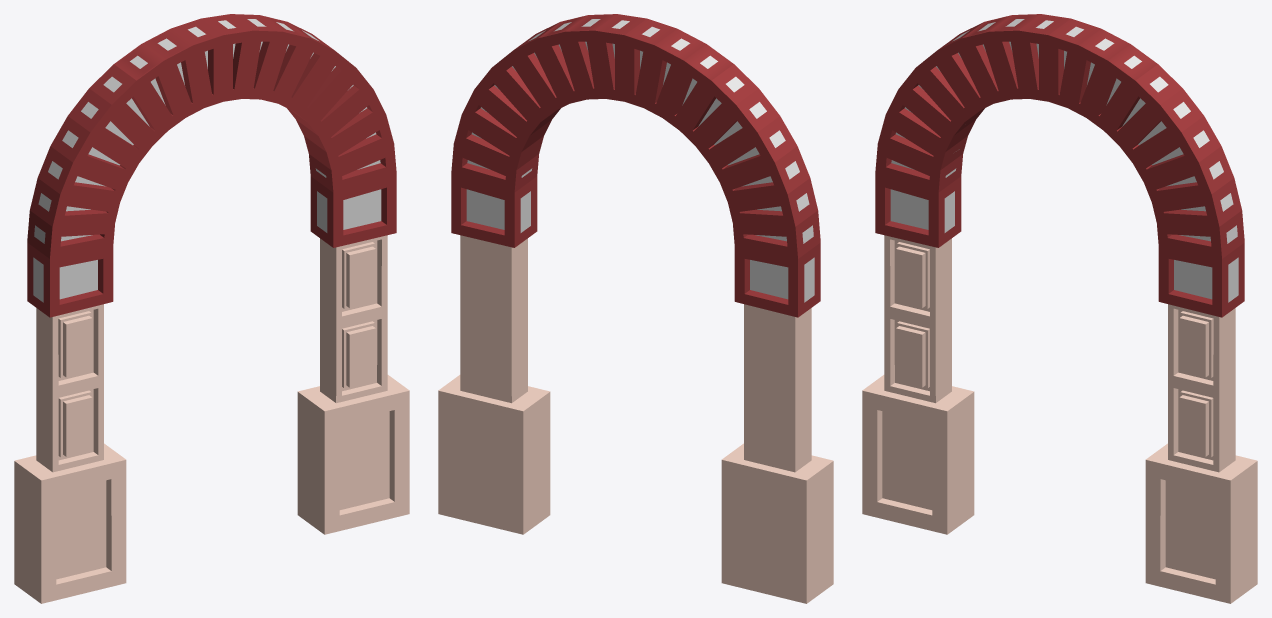
The model's file is Big sign entrence (1).fbx.
3 renders of one model, left to right at view 1: azimuth 30°, elevation 25°; view 2: azimuth 150°, elevation 25°; view 3: azimuth 330°, elevation 25°, orthographic.
Parts seen in each view (by area): view 1: Cube; view 2: Cube; view 3: Cube.
Boxes of the visible parts, x1,y1,x2,y2 form: Cube: (14, 14, 409, 603); Cube: (438, 14, 833, 603); Cube: (862, 14, 1257, 603).
Size of the model in its own units: 349 by 472 by 44.39.
